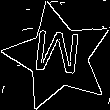M_S: (33, 29, 85, 84)
